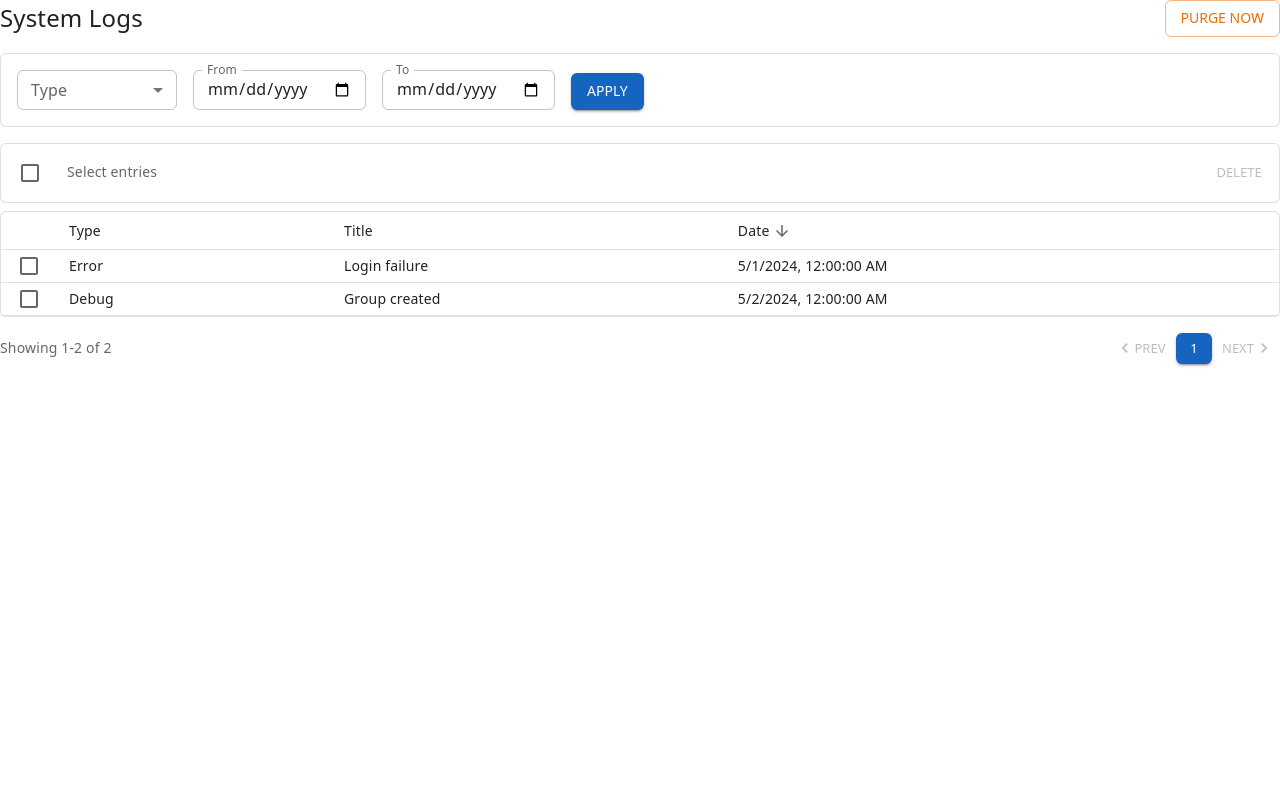
LogViewerPage (TS-M4-G3) › row click opens a detail dialog with the full body (AC-3)
Click the cell with test id "log-title-1" at (525, 266), box 328,249 -> 722,282
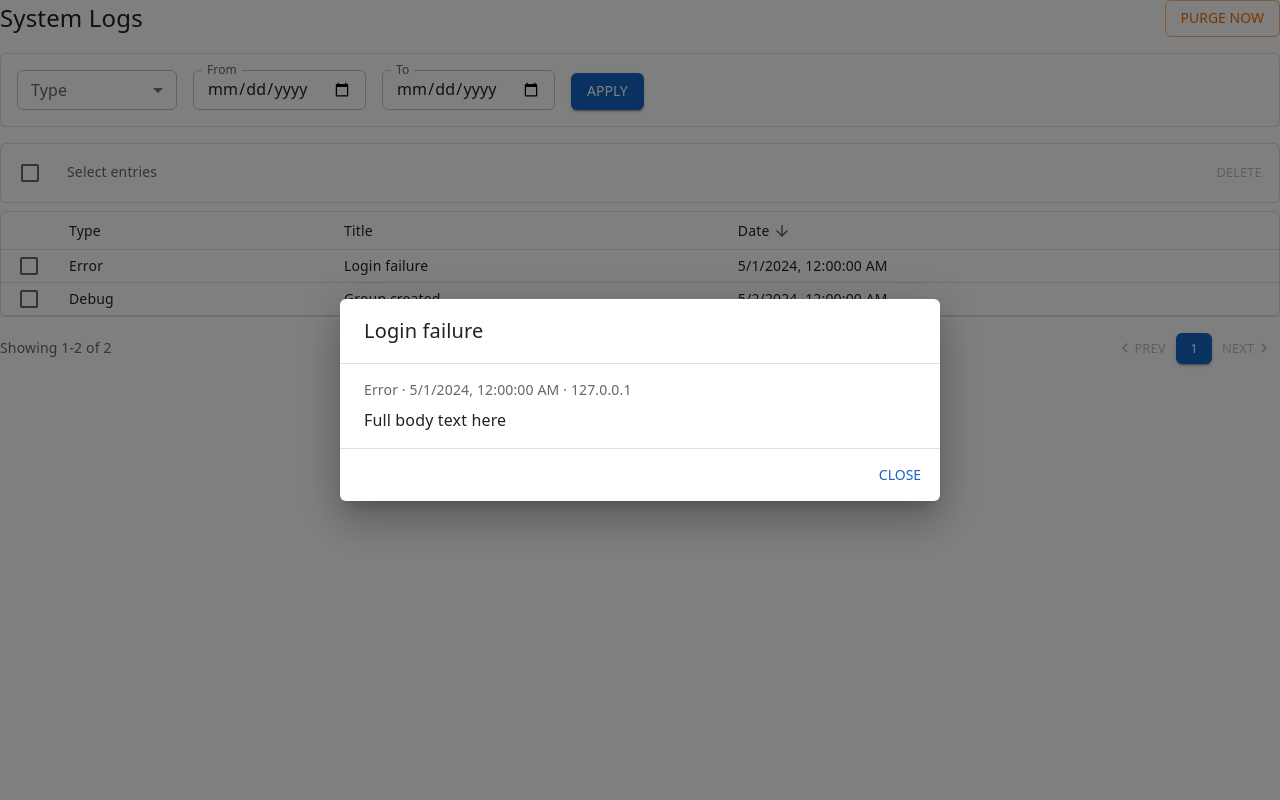
Now the text with test id "log-detail-body" reads "Full body text here", box 364,409 -> 506,431
